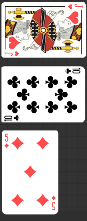10C: (64, 67, 82, 75)
9D: (4, 132, 10, 149), (51, 194, 57, 211)
